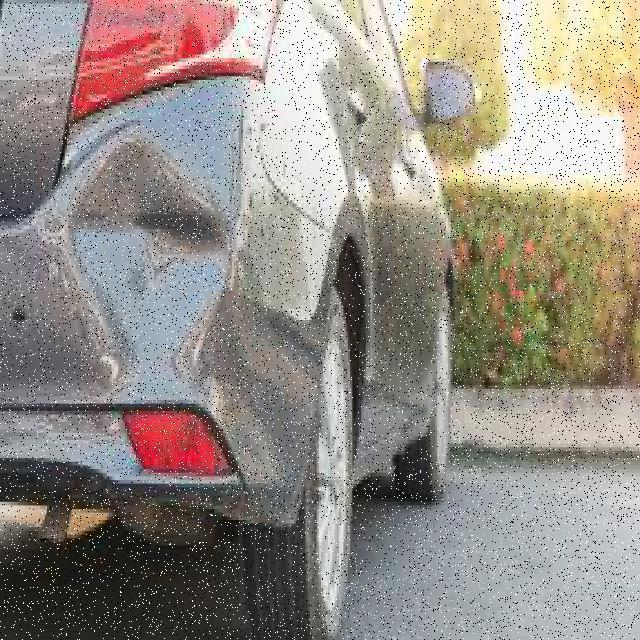rear-bumper-dent: (0, 112, 326, 550)
